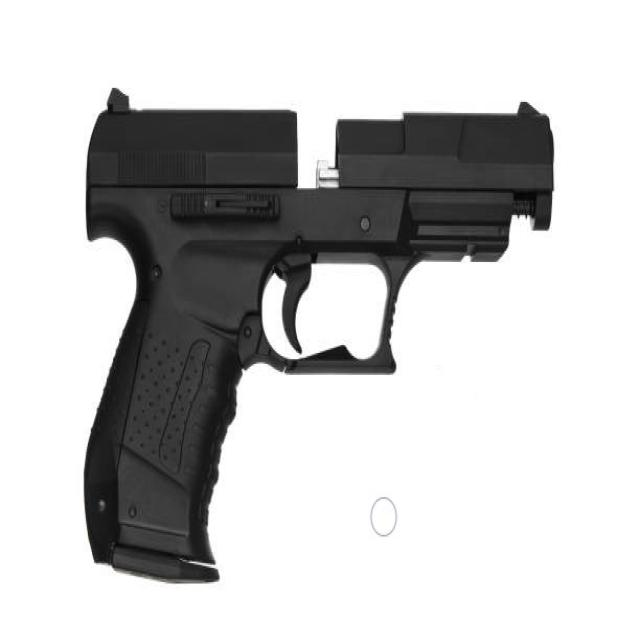pistol: (79, 84, 565, 590)
